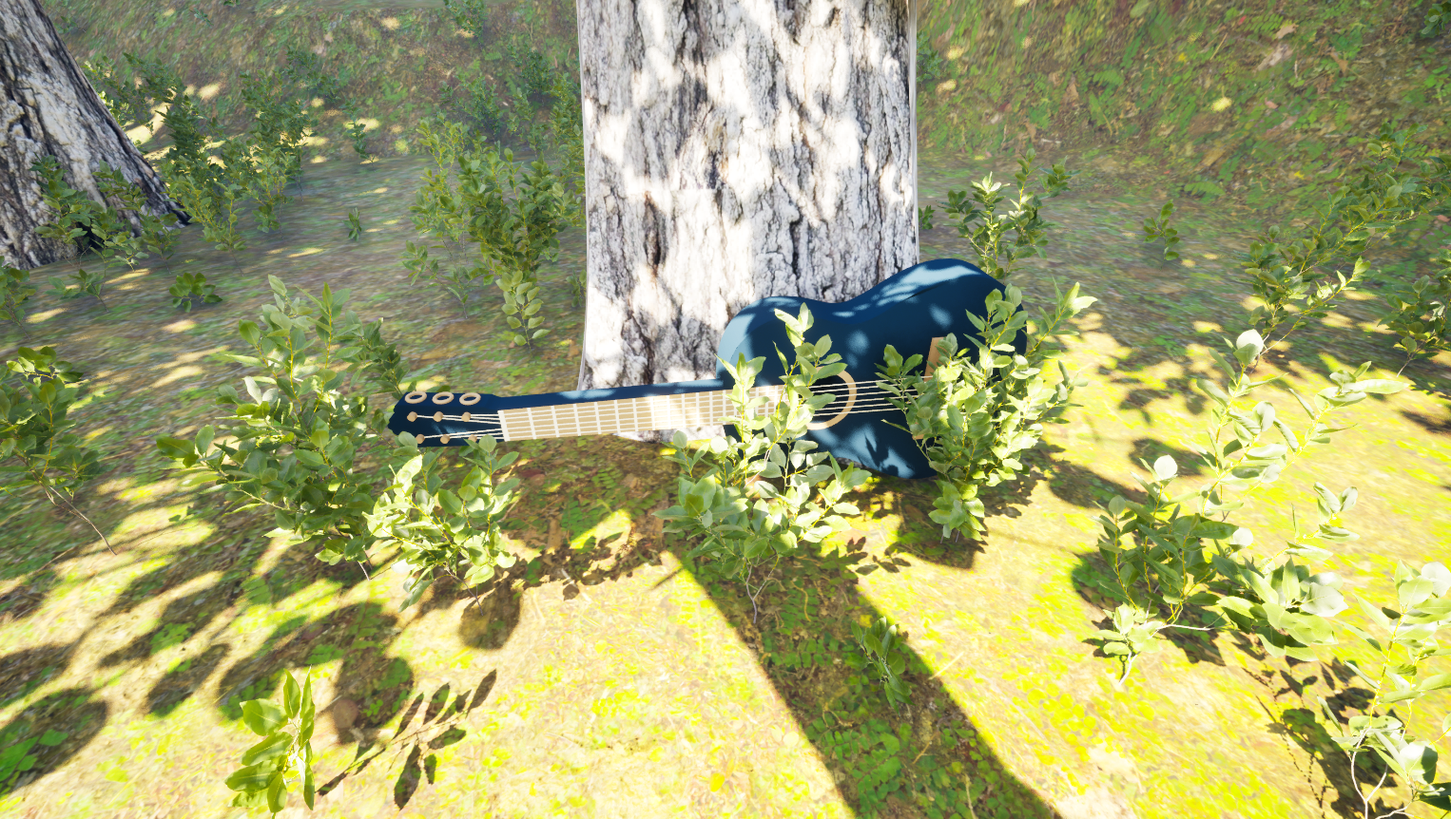Guitar: (338, 254, 1055, 537)
